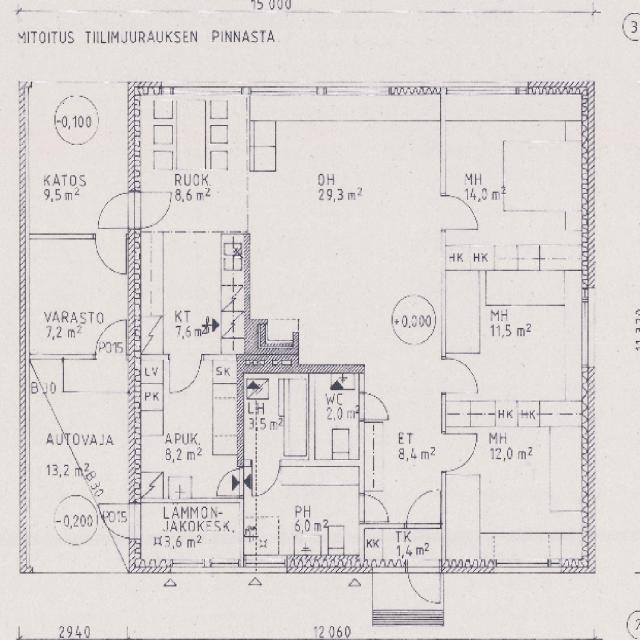door: (408, 558, 440, 608), (91, 44, 124, 90), (91, 82, 124, 128), (98, 503, 142, 537), (441, 432, 479, 470), (406, 485, 439, 528), (170, 354, 200, 394), (441, 358, 476, 392), (441, 195, 476, 229), (252, 459, 280, 497), (359, 493, 389, 520), (359, 392, 388, 418), (216, 468, 243, 495)
